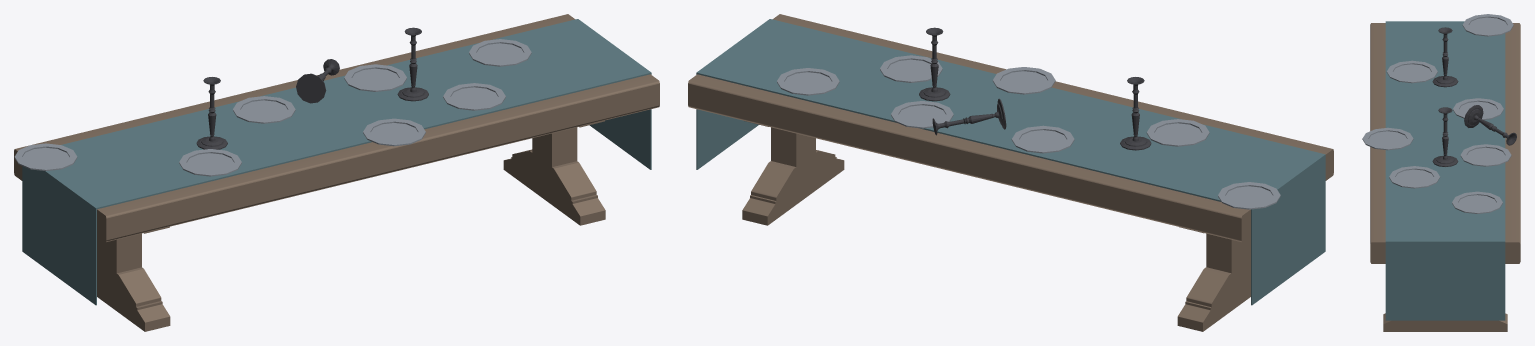
The model's file is banquetTable02.fbx.
The picture shows the model from 3 angles, left to right: view 1: azimuth 30°, elevation 25°; view 2: azimuth 150°, elevation 25°; view 3: azimuth 270°, elevation 25°; orthographic projection. The views are drawn at different scales.
Parts seen in each view (by area): view 1: cloth, table, dinnerPlates, candelabras; view 2: cloth, table, dinnerPlates, candelabras; view 3: cloth, table, dinnerPlates, candelabras.
Part boxes in pixels (<box>): cloth: <box>22,19,651,305</box>; table: <box>14,14,659,331</box>; dinnerPlates: <box>14,39,531,176</box>; candelabras: <box>196,27,428,149</box>; cloth: <box>696,19,1325,305</box>; table: <box>688,14,1333,331</box>; dinnerPlates: <box>777,55,1280,209</box>; candelabras: <box>919,27,1151,150</box>; cloth: <box>1385,21,1505,320</box>; table: <box>1370,23,1520,331</box>; dinnerPlates: <box>1362,14,1513,213</box>; candelabras: <box>1432,27,1516,166</box>.
Bounding box in the file's own units: 473 × 157 × 140.
